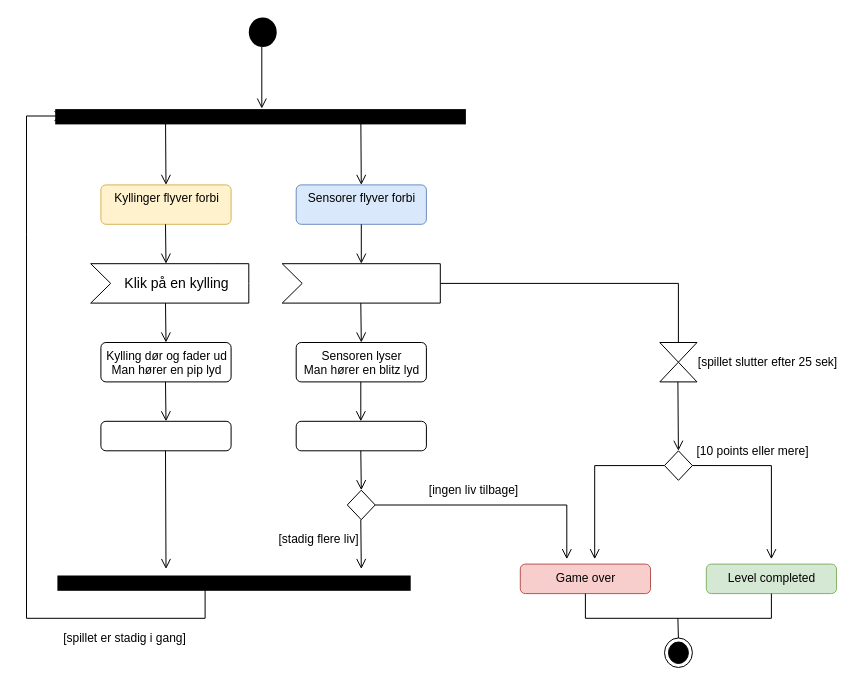
Some shapes in this 860 by 685 pixel diagram are drawn without their labels. The centre of each missing label's shape, as x and y in pixels:
"Du får et point" belongs at point 165,435.
"Du mister et liv" belongs at point 360,435.
"Klik på en sensor" belongs at point 360,283.
